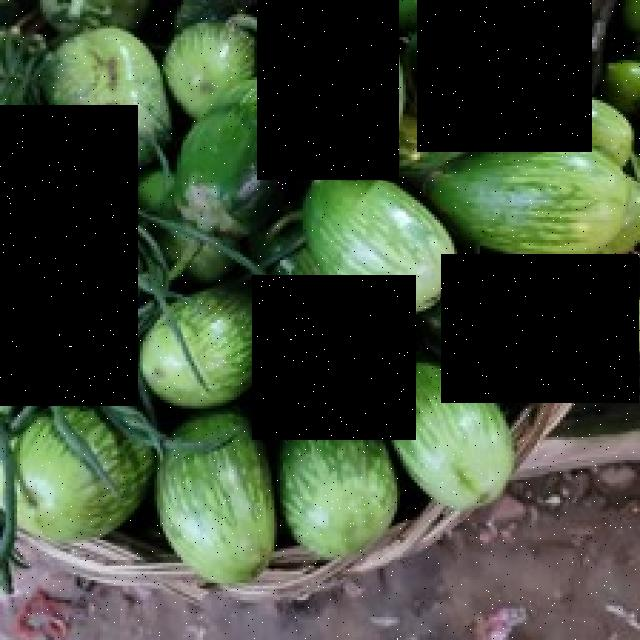Green_Brinjal: (442, 254, 640, 403), (253, 275, 417, 440), (418, 0, 592, 152), (258, 0, 400, 180)
Long_Beans: (0, 105, 138, 406)
